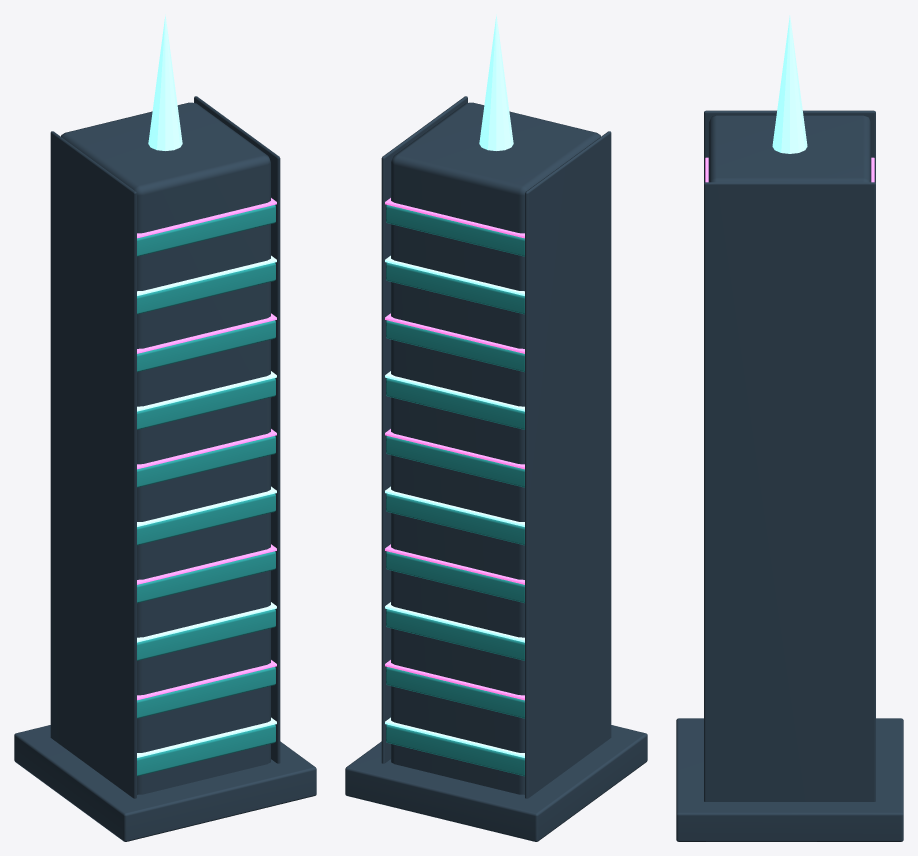
Rendered from neon-tower.glb.
3 renders of one model, left to right at view 1: azimuth 30°, elevation 25°; view 2: azimuth 150°, elevation 25°; view 3: azimuth 270°, elevation 25°, orthographic. The views are drawn at different scales.
Visible parts, largest first — view 1: Tower.001, Corner blade, Basalt plinth, Corner blade.001, Glass level.001, Glass level.002, Glass level.004, Glass level.005, Glass level.006, Glass level.007, Glass level.008, Glass level.009 (+13 smaller); view 2: Tower.001, Corner blade, Basalt plinth, Corner blade.001, Glass level.001, Glass level.002, Glass level.004, Glass level.005, Glass level.006, Glass level.007, Glass level.008, Glass level.009 (+13 smaller); view 3: Corner blade.001, Basalt plinth, Tower.001, Spire, Corner blade.
Part boxes in pixels (x1,y1,x2,y2): Tower.001: (61,102,270,794); Corner blade: (50,131,136,798); Basalt plinth: (14,725,316,841); Corner blade.001: (194,96,280,763); Glass level.001: (137,667,275,718); Glass level.002: (137,609,275,660); Glass level.004: (137,493,275,545); Glass level.005: (137,436,275,487); Glass level.006: (137,378,275,429); Glass level.007: (137,320,275,372); Glass level.008: (137,262,275,314); Glass level.009: (137,205,275,256); Tower.001: (391,102,600,794); Corner blade: (525,131,611,798); Basalt plinth: (345,725,647,841); Corner blade.001: (381,96,467,763); Glass level.001: (386,667,524,718); Glass level.002: (386,609,524,660); Glass level.004: (386,493,524,545); Glass level.005: (386,436,524,487); Glass level.006: (386,378,524,429); Glass level.007: (386,320,524,372); Glass level.008: (386,262,524,314); Glass level.009: (386,205,524,256); Corner blade.001: (704,182,875,801); Basalt plinth: (676,718,903,841); Tower.001: (708,115,871,182); Spire: (772,15,807,153); Corner blade: (704,110,875,182).
Size of the model in its own units: 7 by 26.5 by 7.
